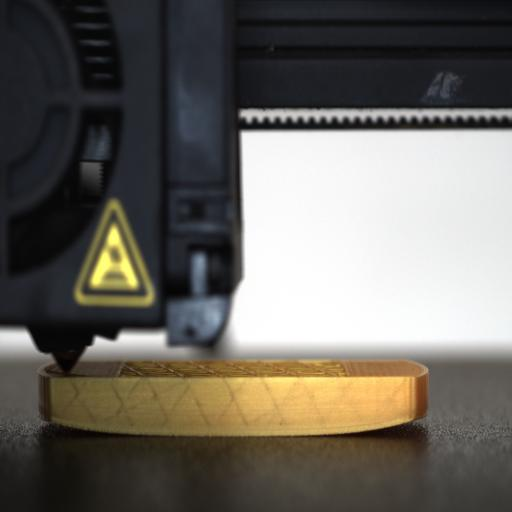warp: (32, 408, 112, 438), (362, 403, 432, 431)
